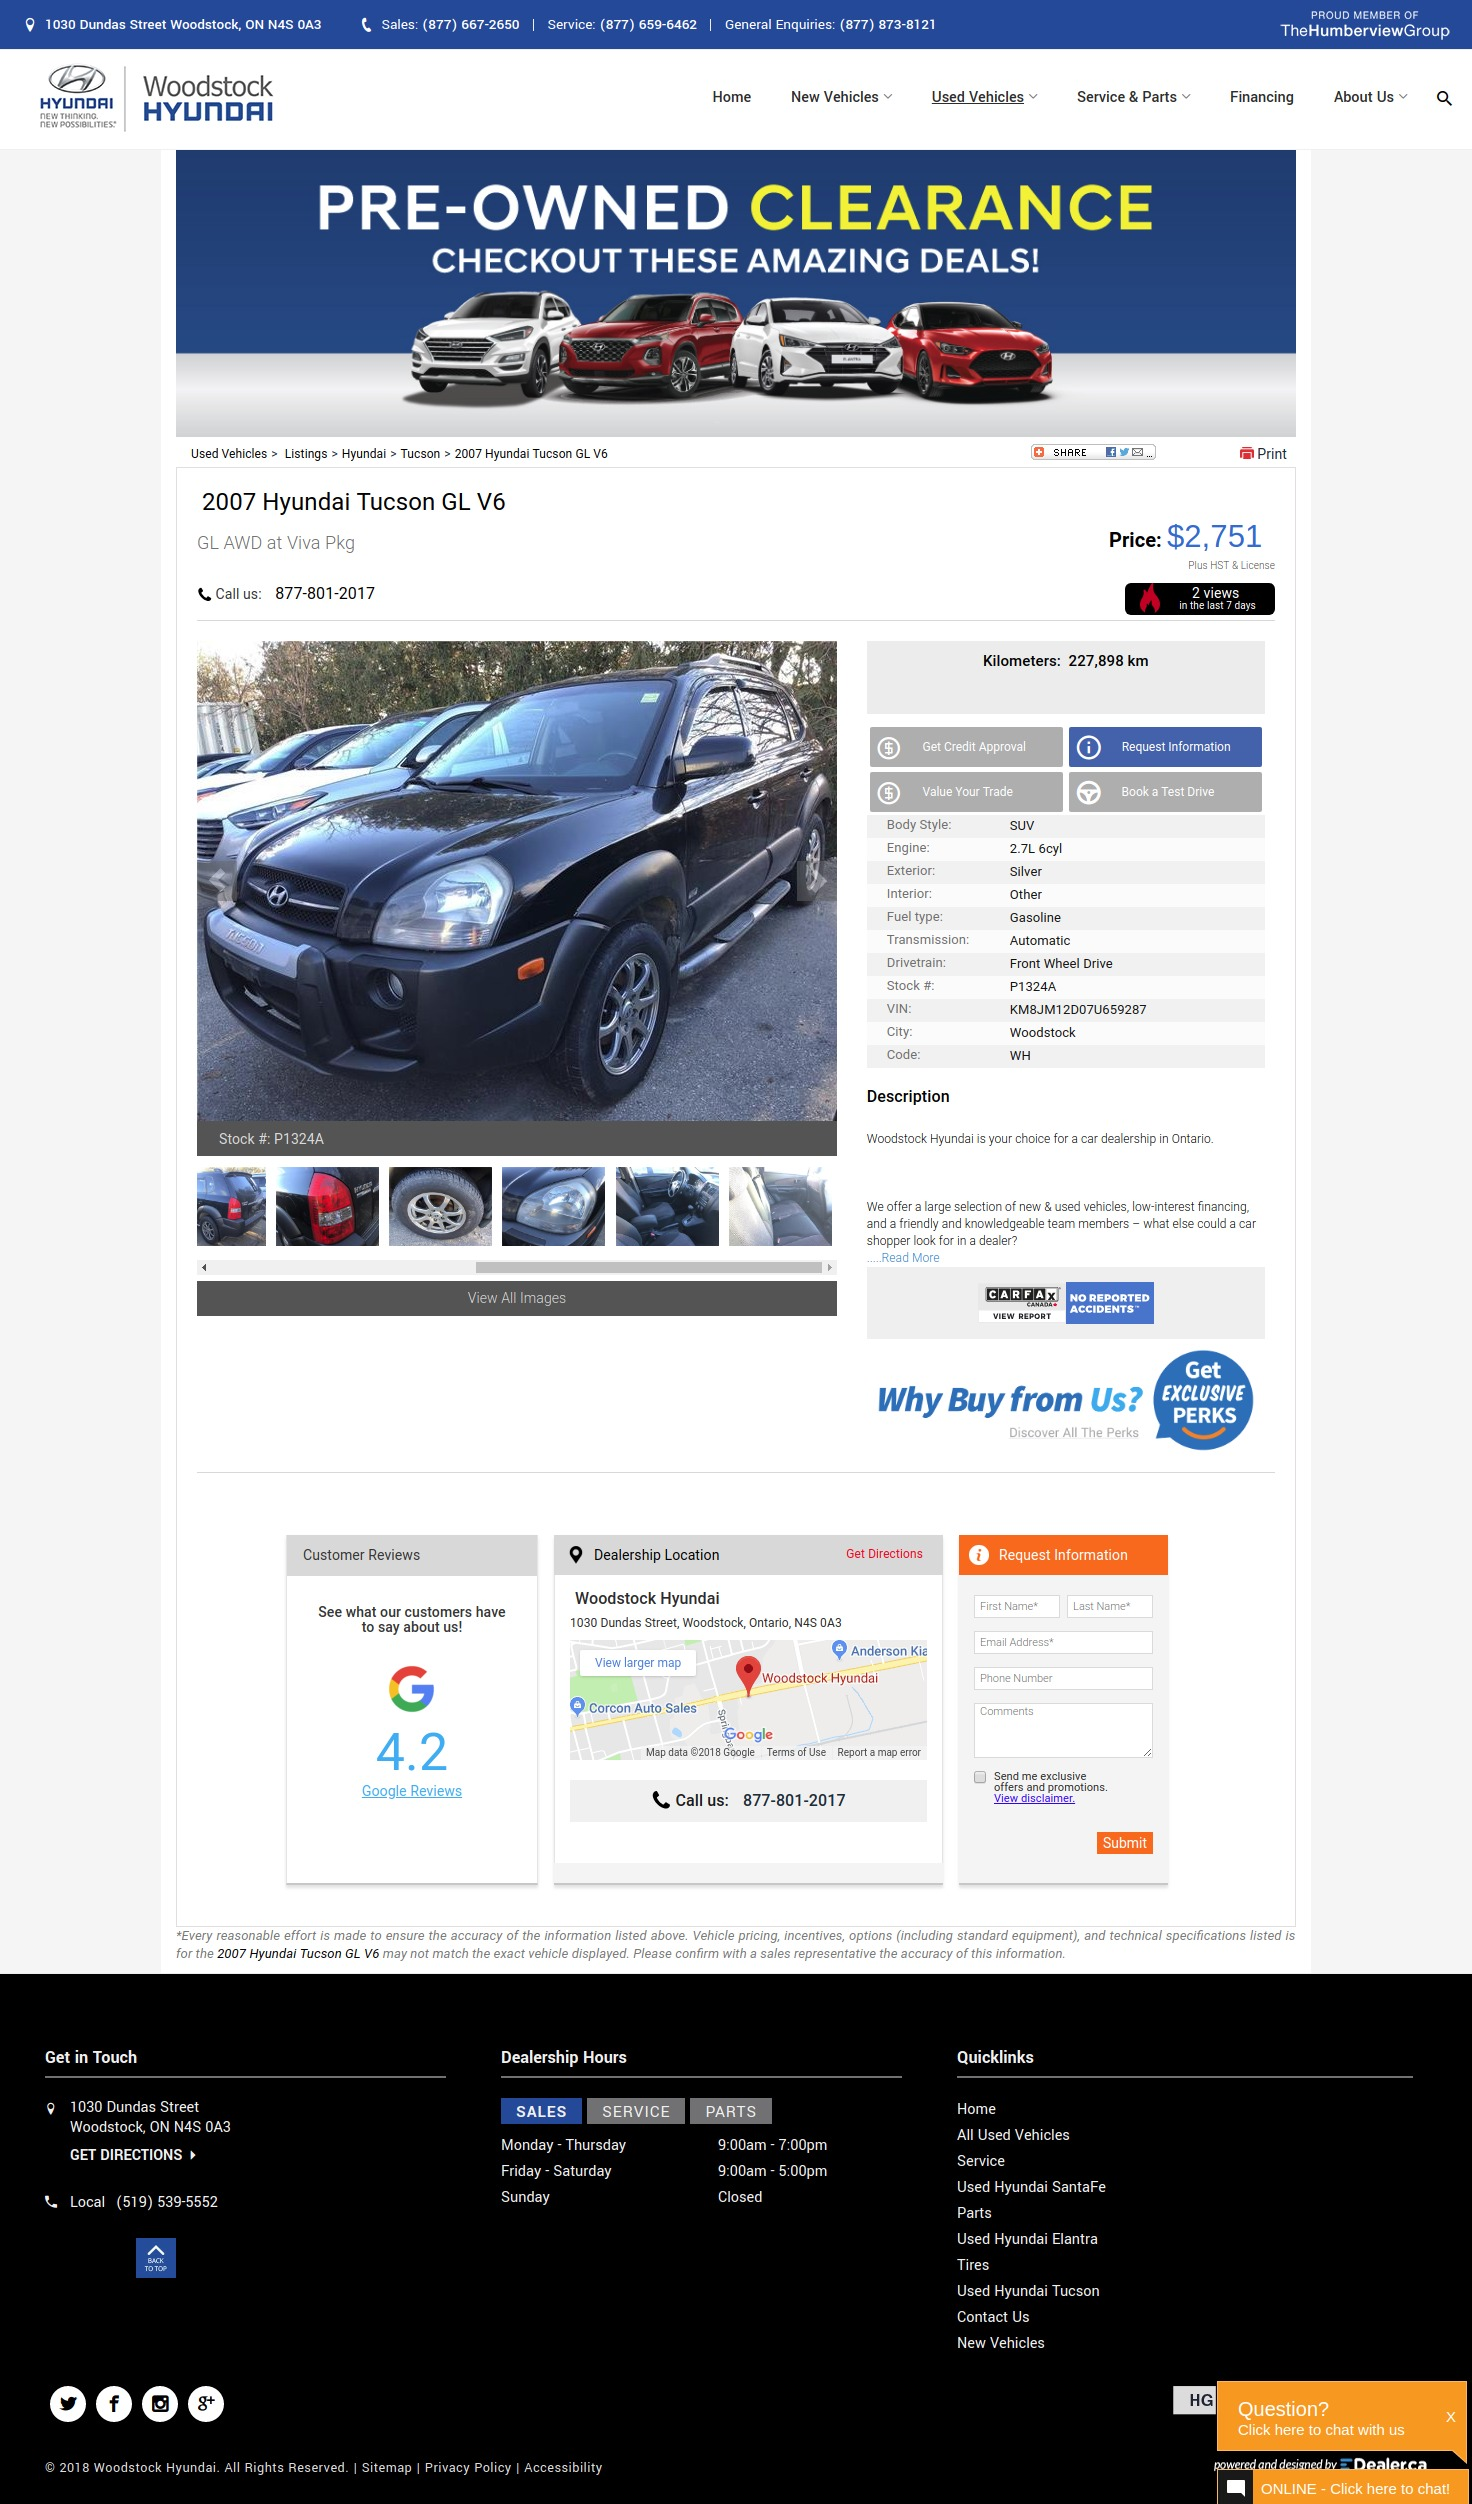car: (797, 860, 839, 902)
